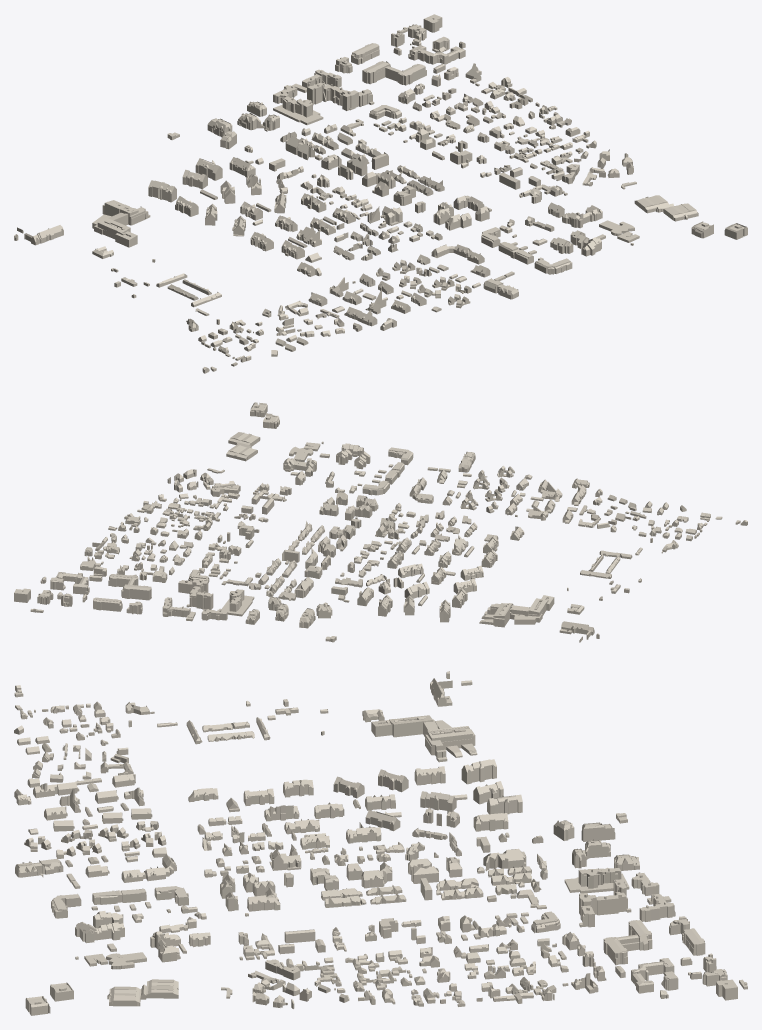
3 renders of one model, top to bottom at view 1: azimuth 30°, elevation 25°; view 2: azimuth 150°, elevation 25°; view 3: azimuth 270°, elevation 25°, orthographic. The views are drawn at different scales.
Bounding box in the file's own units: 913 × 34.12 × 853.
